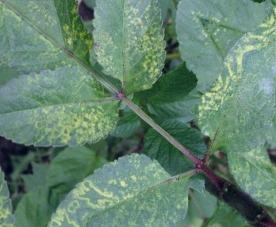Tomato leaf mosaic virus: (0, 31, 134, 197), (61, 120, 208, 227), (53, 0, 204, 103), (164, 42, 276, 178)
